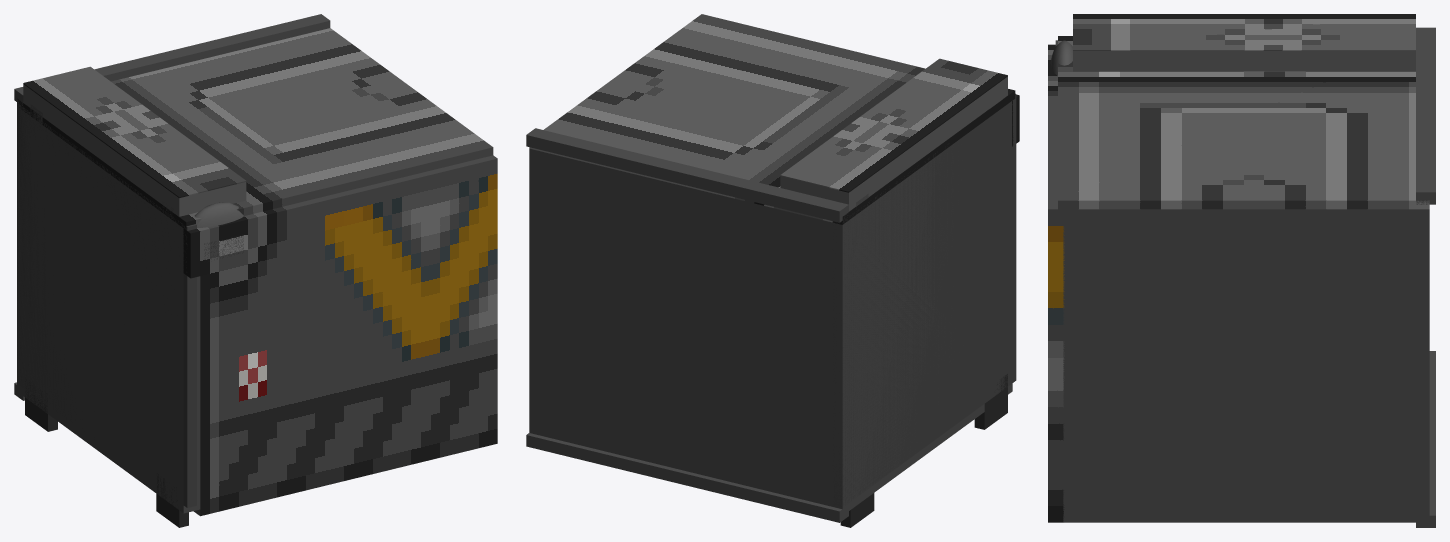
File: CMU3DFreightAU14ContainerTartarusLeftGrayWY.glb
3 renders of one model, left to right at view 1: azimuth 30°, elevation 25°; view 2: azimuth 150°, elevation 25°; view 3: azimuth 270°, elevation 25°, orthographic. The views are drawn at different scales.
Parts seen in each view (by area): view 1: painted front panel, closed cargo shell, source-painted lid, source-painted locking strap, outer end wall, outer lid strap, rear horizontal frame, corner lifting foot (×2), corner frame upright, rounded strap end; view 2: closed cargo shell, outer end wall, source-painted lid, rear horizontal frame (×2), source-painted locking strap, outer lid strap, corner lifting foot; view 3: closed cargo shell, source-painted lid, source-painted locking strap, outer lid strap, painted front panel, rear horizontal frame (×2), rounded strap end.
Boxes of the visible parts, x1,y1,x2,y2 form: painted front panel: (183,155,497,516); closed cargo shell: (17,108,200,513); source-painted lid: (17,28,493,229); source-painted locking strap: (23,66,246,197); outer end wall: (17,103,196,507); outer lid strap: (23,84,246,216); rear horizontal frame: (14,14,330,106); corner lifting foot (×2): (25,379,188,527); corner frame upright: (30,104,42,385); rounded strap end: (194,202,243,227); closed cargo shell: (529,147,1012,515); outer end wall: (832,93,1016,507); source-painted lid: (529,14,1015,224); rear horizontal frame (×2): (526,128,848,522); source-painted locking strap: (780,58,1007,192); outer lid strap: (780,76,1007,211); corner lifting foot: (974,374,1007,429); closed cargo shell: (1063,209,1429,522); source-painted lid: (1058,36,1429,209); source-painted locking strap: (1073,14,1415,50); outer lid strap: (1073,51,1415,71); painted front panel: (1048,44,1064,522); rear horizontal frame (×2): (1416,27,1435,527); rounded strap end: (1050,40,1072,75).
Bounding box in the file's own units: 1 × 1.03 × 0.995.
9 materials, 3 textured.
